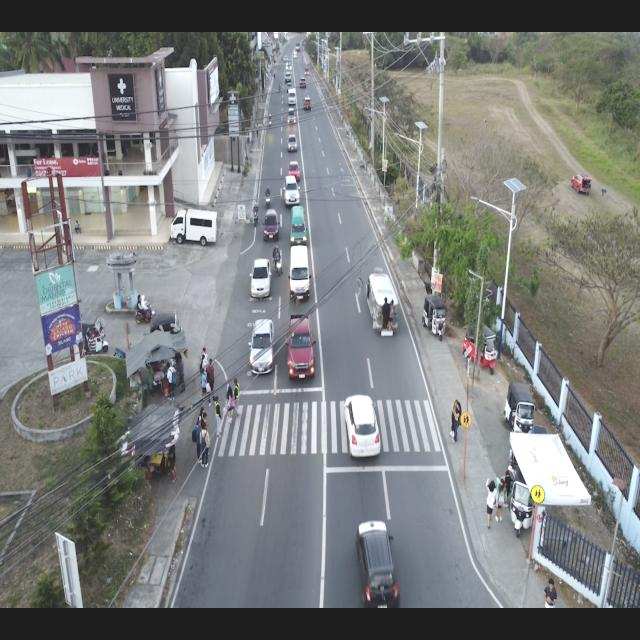car: (354, 518, 401, 611), (343, 393, 382, 461), (365, 265, 400, 339), (285, 312, 317, 384), (170, 208, 218, 247), (248, 318, 278, 376), (288, 244, 312, 302), (248, 257, 272, 299), (288, 204, 308, 248), (262, 208, 280, 243), (283, 175, 301, 207), (570, 172, 593, 195), (287, 160, 301, 182), (286, 134, 298, 153), (286, 107, 296, 124), (302, 97, 312, 111), (288, 88, 296, 105), (284, 72, 292, 83), (299, 77, 306, 89), (286, 82, 292, 93), (286, 64, 292, 72), (304, 68, 309, 76), (284, 55, 288, 63), (286, 60, 291, 66)
motorcycle: (463, 319, 498, 376), (504, 377, 535, 437), (511, 473, 536, 539), (422, 295, 446, 344), (134, 294, 156, 326), (272, 244, 284, 278), (264, 184, 272, 210), (252, 202, 260, 228), (268, 114, 272, 128), (278, 82, 281, 93)
person: (485, 478, 499, 530), (494, 476, 508, 524), (501, 465, 515, 512), (198, 422, 210, 470), (222, 384, 236, 424), (192, 420, 204, 466), (165, 362, 178, 402), (451, 402, 463, 443), (200, 412, 210, 458), (214, 394, 224, 440), (205, 372, 218, 407), (232, 377, 242, 421), (543, 578, 557, 608), (449, 399, 458, 438), (177, 352, 185, 394), (147, 362, 156, 399), (196, 406, 205, 434), (206, 358, 214, 389), (200, 368, 208, 398), (199, 354, 207, 377), (200, 347, 209, 366), (74, 219, 82, 235), (255, 123, 259, 138), (273, 72, 275, 80)
truck: (295, 42, 301, 52), (293, 49, 297, 59)
